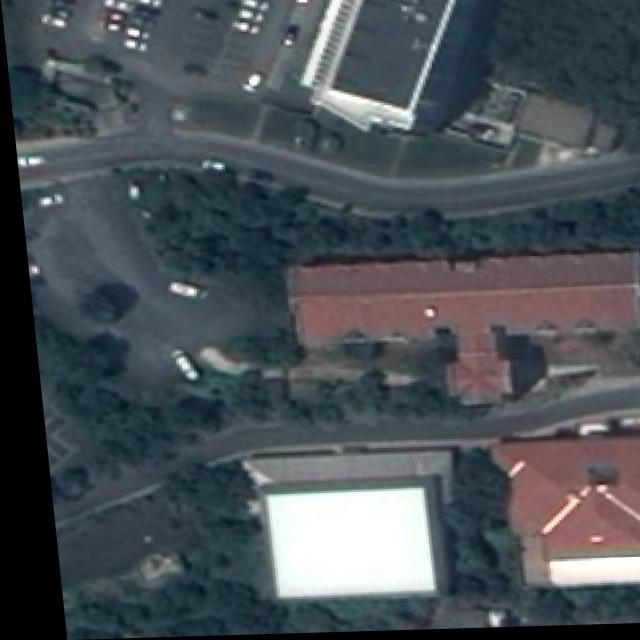Batiment: (283, 256, 632, 403), (480, 440, 640, 588), (298, 0, 457, 133), (255, 490, 422, 599), (443, 86, 614, 158)
